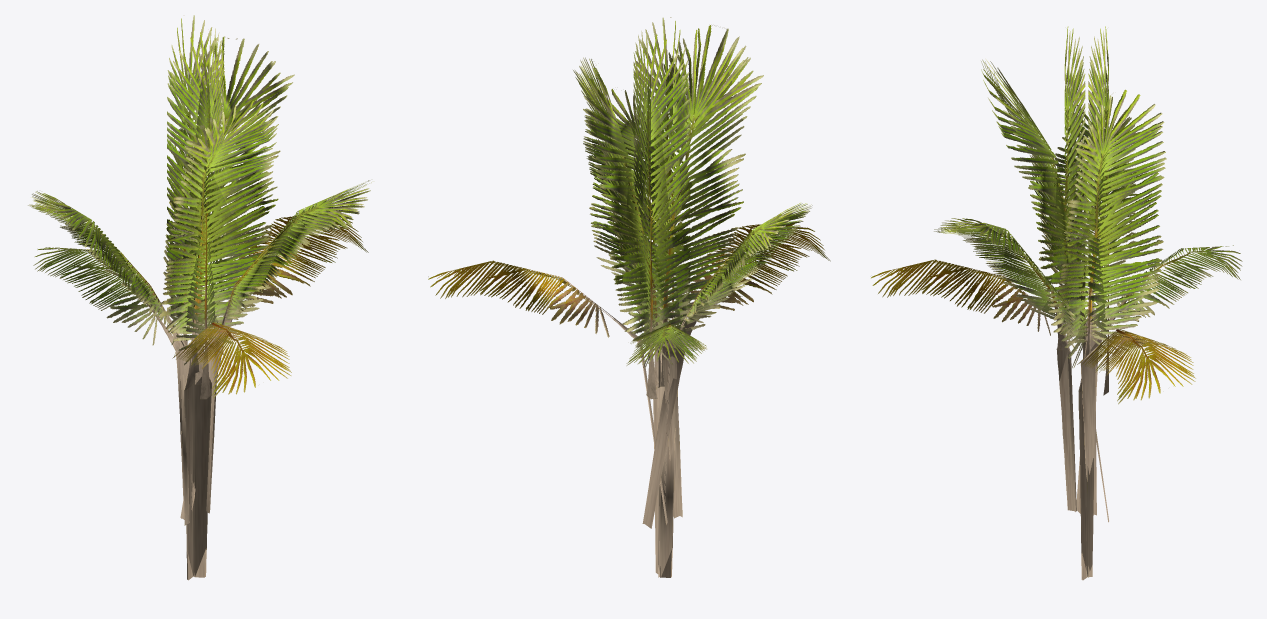
File: palm_nipa_0.glb
The picture shows the model from 3 angles, left to right: view 1: azimuth 30°, elevation 25°; view 2: azimuth 150°, elevation 25°; view 3: azimuth 270°, elevation 25°; orthographic projection.
Parts seen in each view (by area): view 1: palm_nipa_0; view 2: palm_nipa_0; view 3: palm_nipa_0.
Part boxes in pixels (x1=…): palm_nipa_0: x1=28, y1=15, x2=371, y2=580; palm_nipa_0: x1=428, y1=17, x2=830, y2=577; palm_nipa_0: x1=871, y1=26, x2=1242, y2=580.
Size of the model in its own units: 6.58 by 9.6 by 6.07.
1 material, 1 textured.
